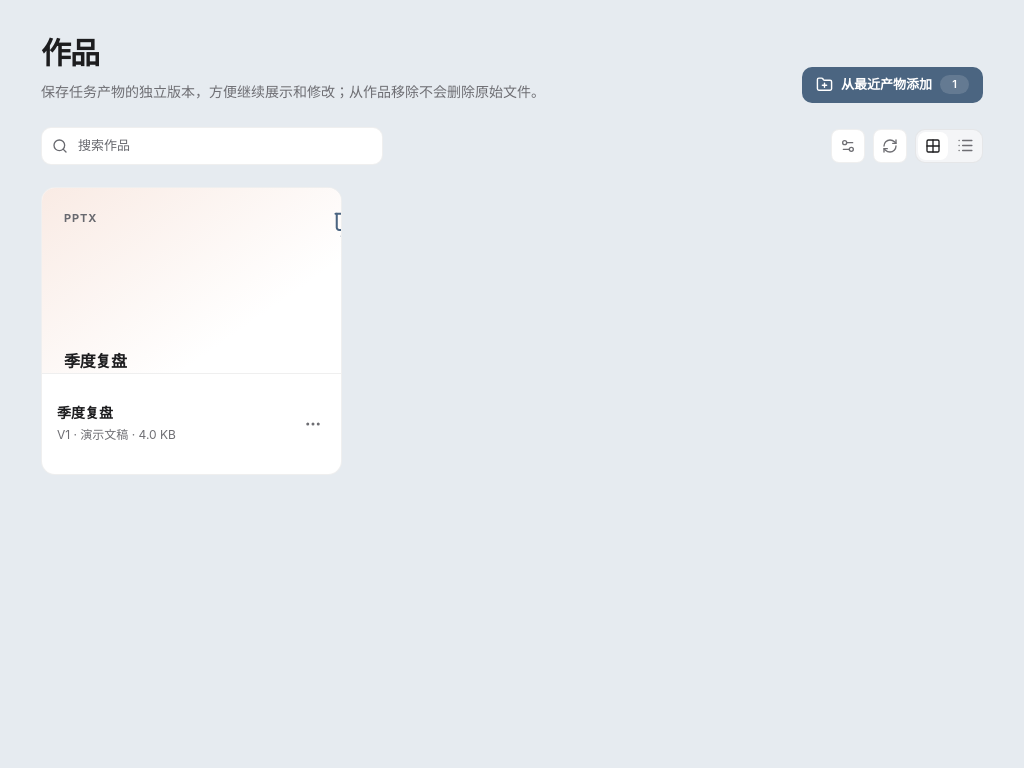
Test: WorksPage › keeps costly AI cover generation disabled until the user configures it
The image size is (1024, 768).
Expected: the heading "作品" is shown, [41, 35, 99, 71]
Step 1. Click the button named "作品封面设置" → coordinates (848, 146), box [831, 129, 865, 163]
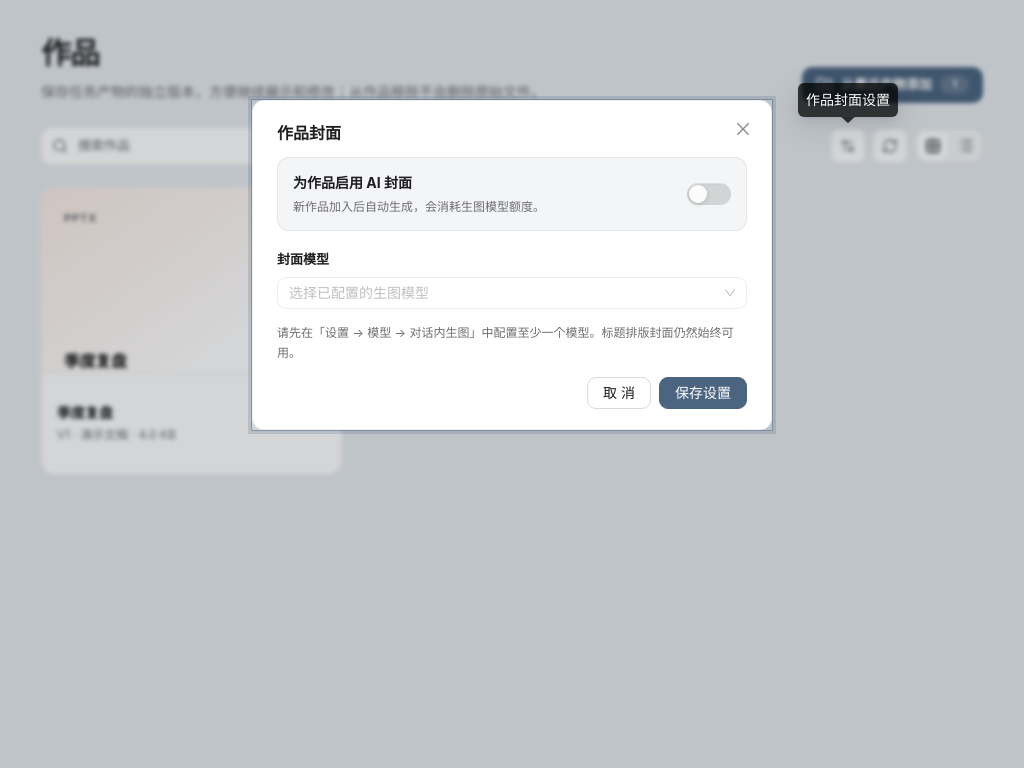
Result: the switch named "为作品启用 AI 封面" is disabled at [687, 183, 731, 205]
Result: the text "请先在「设置 → 模型 → 对话内生图」中配置至少一个模型。标题排版封面仍然始终可用。" is shown at [277, 323, 747, 363]
